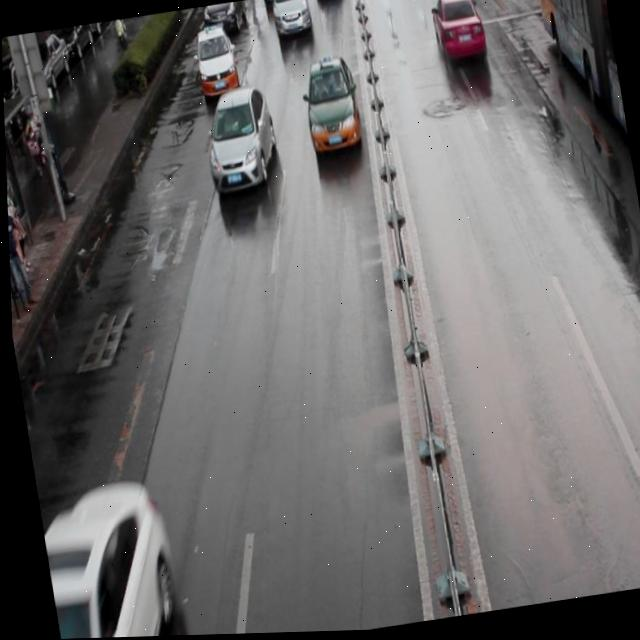car: (32, 474, 181, 640), (196, 85, 281, 197), (297, 57, 363, 155), (427, 0, 487, 68), (189, 25, 242, 101), (200, 1, 248, 36)
truck: (269, 0, 312, 38)
van: (532, 0, 638, 226)
